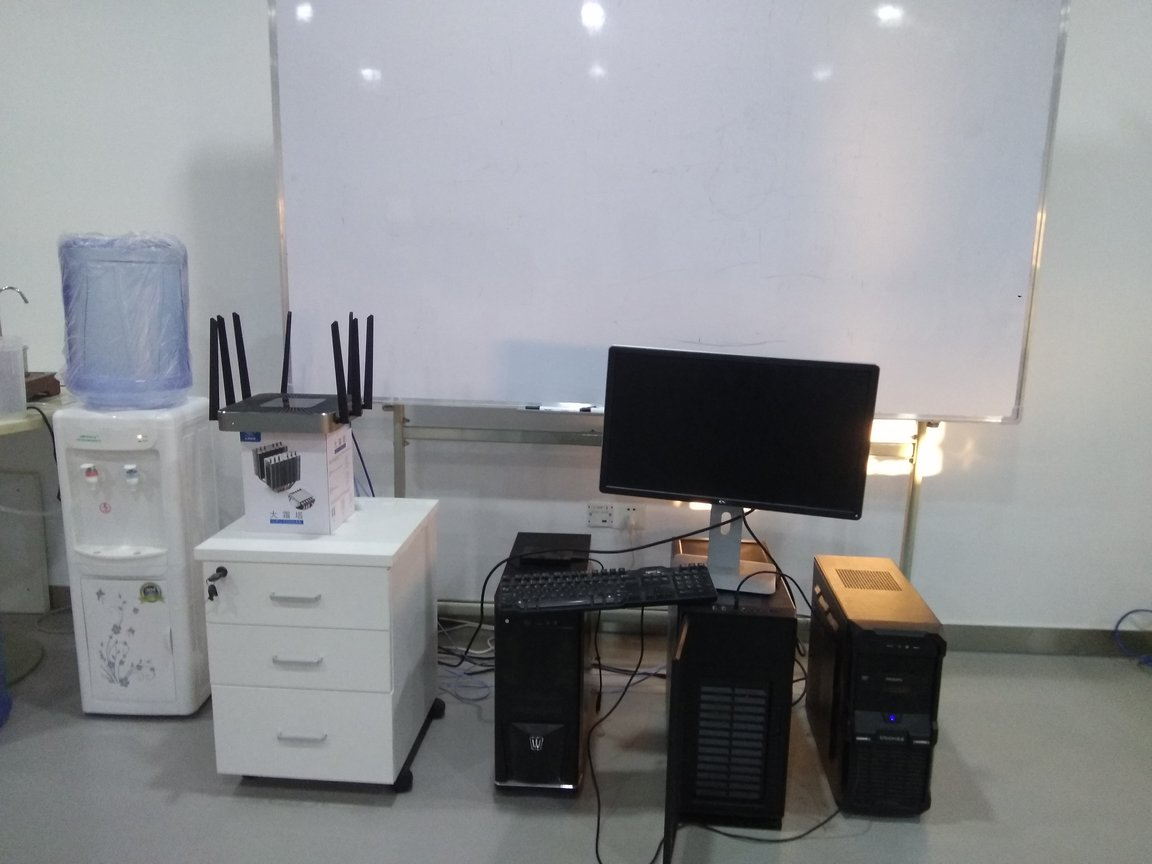computer: (663, 531, 801, 850), (813, 549, 944, 830), (496, 522, 595, 811)
drawer chest: (193, 493, 446, 796)
monitor: (605, 333, 884, 607)
scuttlebutt: (53, 227, 194, 419)
water dispenser: (49, 394, 216, 716)
